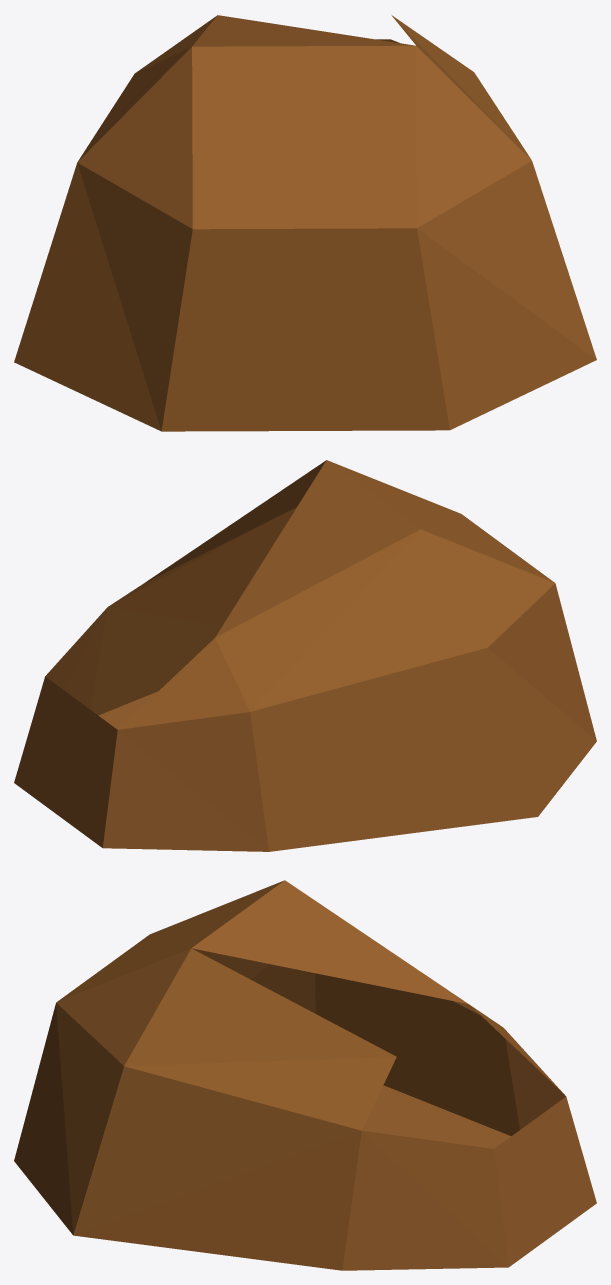
File: Toad_DLeg.obj
3 renders of one model, top to bottom at view 1: azimuth 30°, elevation 25°; view 2: azimuth 150°, elevation 25°; view 3: azimuth 270°, elevation 25°, orthographic. The views are drawn at different scales.
Visible parts, largest first — view 1: Toad_RPata; view 2: Toad_RPata; view 3: Toad_RPata.
Part boxes in pixels (box(x1,y1,x2,y2)): Toad_RPata: box(14, 15, 596, 431); Toad_RPata: box(14, 460, 596, 851); Toad_RPata: box(14, 880, 596, 1270).
Size of the model in its own units: 0.4021 by 0.2157 by 0.4656.
1 material, 1 textured.
